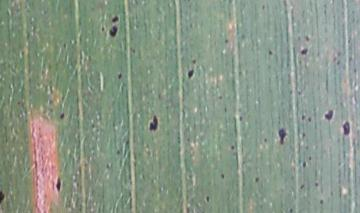tarspot: (276, 127, 288, 146), (148, 114, 159, 131), (323, 108, 334, 122), (341, 121, 350, 137), (108, 25, 118, 39), (54, 176, 62, 193), (186, 67, 195, 80), (110, 14, 120, 25), (299, 47, 309, 57), (1, 189, 6, 205), (116, 71, 124, 81), (299, 160, 307, 170), (303, 33, 311, 43), (61, 41, 69, 51), (19, 49, 27, 59), (58, 111, 66, 120), (229, 143, 237, 152), (299, 182, 307, 191), (190, 56, 197, 66), (347, 54, 354, 64), (318, 197, 325, 207), (216, 94, 224, 102), (89, 122, 97, 130), (299, 113, 306, 122), (335, 58, 342, 67), (253, 175, 260, 184), (157, 91, 163, 101), (266, 48, 273, 56), (262, 135, 268, 144), (220, 172, 226, 181), (287, 87, 293, 96), (100, 24, 105, 34), (306, 116, 313, 123), (114, 149, 121, 156), (287, 206, 294, 213), (204, 194, 210, 202), (296, 89, 302, 97), (223, 37, 229, 44), (352, 66, 358, 73), (260, 4, 266, 11), (313, 180, 319, 187), (307, 154, 312, 162), (238, 114, 243, 122), (223, 105, 228, 113), (336, 50, 341, 58), (300, 131, 306, 137), (331, 55, 336, 62)
